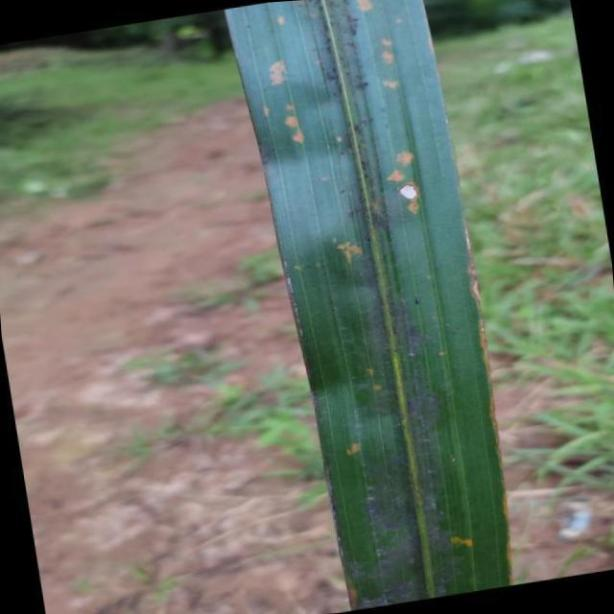Kalium: (222, 0, 510, 614)
